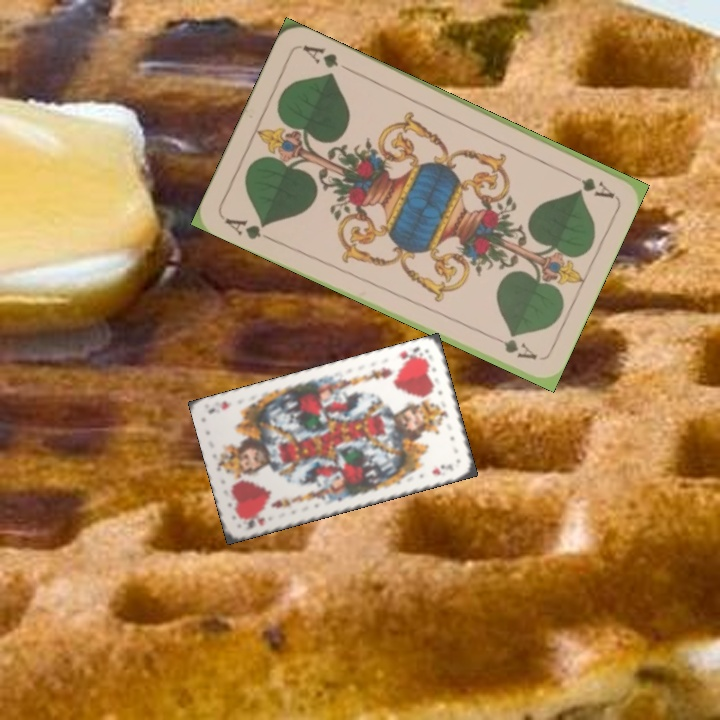GA: (561, 167, 616, 201), (221, 213, 276, 244)
HK: (395, 343, 428, 366), (242, 513, 268, 532)
